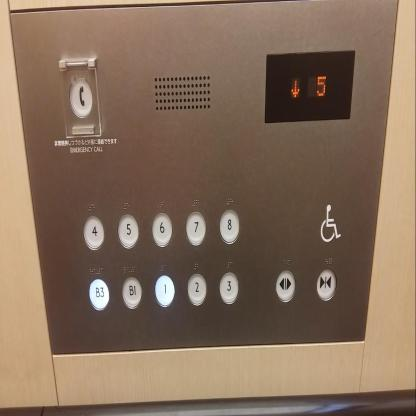1: (154, 272, 176, 310)
2: (186, 270, 208, 307)
3: (218, 270, 241, 306)
4: (82, 213, 105, 252)
5: (116, 212, 140, 250)
6: (150, 210, 174, 249)
7: (185, 207, 207, 247)
8: (218, 207, 242, 246)
B1: (120, 272, 144, 311)
B3: (87, 275, 111, 312)
CH: (316, 195, 344, 249)
call: (66, 76, 95, 120)
close: (315, 266, 337, 304)
led: (264, 50, 355, 122)
open: (275, 267, 295, 303)
